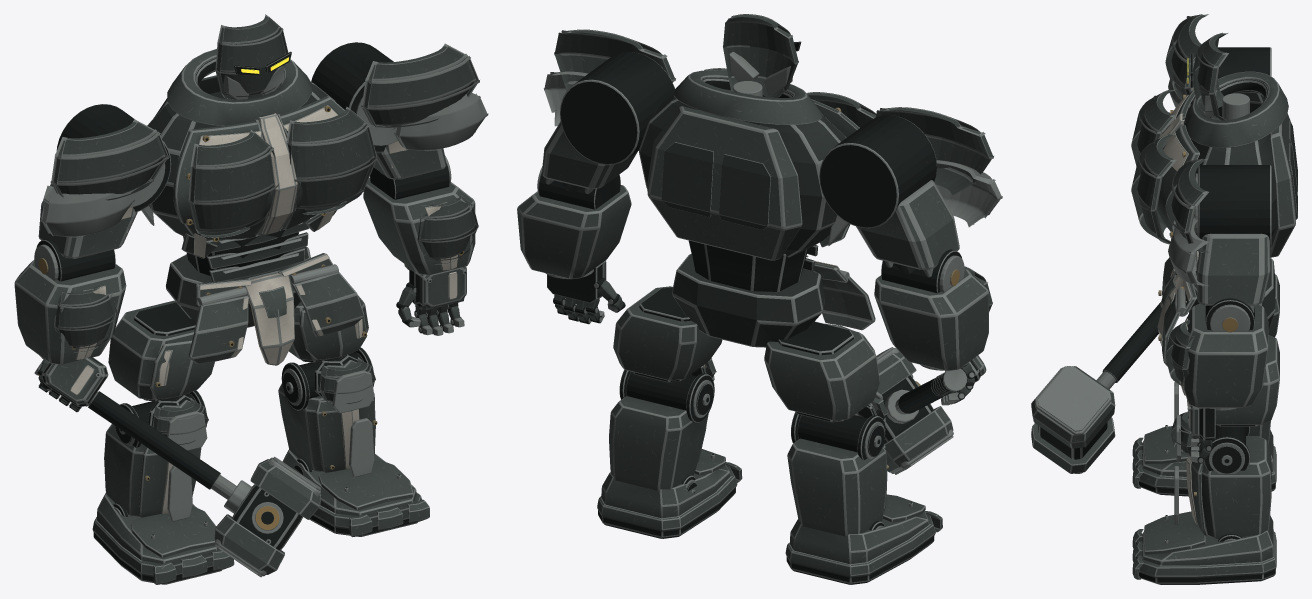
The model's file is tank-t2-harrow.glb.
3 renders of one model, left to right at view 1: azimuth 30°, elevation 25°; view 2: azimuth 150°, elevation 25°; view 3: azimuth 270°, elevation 25°, orthographic. The views are drawn at different scales.
Parts seen in each view (by area): view 1: chest__clay, elbowR__clay, elbowL__clay, weaponR__metal, ankleR__clay, pelvis__metal, pauldronL__clay, pauldronR__clay, ankleL__clay, hipR__clay, kneeL__clay, kneeR__clay (+24 smaller); view 2: chest__clay, chest__metal, pelvis__metal, shoulderR__metal, shoulderL__metal, elbowR__clay, kneeR__clay, kneeL__clay, elbowL__clay, hipR__clay, ankleR__clay, ankleL__clay (+22 smaller); view 3: chest__clay, elbowL__clay, ankleL__clay, kneeL__clay, weaponR__metal, shoulderL__metal, shoulderL__clay, chest__metal, weaponR__clay, ankleR__clay, kneeL__metal, pauldronL__clay (+15 smaller).
Boxes of the visible parts, x1=… form: chest__clay: x1=154, y1=49, x2=377, y2=258; elbowR__clay: x1=14, y1=260, x2=126, y2=364; elbowL__clay: x1=363, y1=178, x2=478, y2=275; weaponR__metal: x1=34, y1=360, x2=320, y2=577; ankleR__clay: x1=92, y1=493, x2=234, y2=584; pelvis__metal: x1=166, y1=219, x2=338, y2=327; pauldronL__clay: x1=361, y1=43, x2=479, y2=129; pauldronR__clay: x1=50, y1=119, x2=169, y2=200; ankleL__clay: x1=282, y1=449, x2=429, y2=537; hipR__clay: x1=108, y1=300, x2=214, y2=399; kneeL__clay: x1=278, y1=357, x2=375, y2=472; kneeR__clay: x1=104, y1=398, x2=208, y2=517; chest__clay: x1=647, y1=68, x2=876, y2=260; chest__metal: x1=639, y1=77, x2=849, y2=257; pelvis__metal: x1=672, y1=240, x2=849, y2=347; shoulderR__metal: x1=819, y1=115, x2=936, y2=277; shoulderL__metal: x1=545, y1=52, x2=674, y2=193; elbowR__clay: x1=874, y1=266, x2=992, y2=370; kneeR__clay: x1=787, y1=396, x2=887, y2=536; kneeL__clay: x1=609, y1=358, x2=716, y2=490; elbowL__clay: x1=517, y1=185, x2=631, y2=278; hipR__clay: x1=764, y1=321, x2=879, y2=420; ankleR__clay: x1=785, y1=494, x2=942, y2=577; ankleL__clay: x1=597, y1=449, x2=742, y2=531; chest__clay: x1=1131, y1=71, x2=1295, y2=270; elbowL__clay: x1=1165, y1=303, x2=1268, y2=407; ankleL__clay: x1=1132, y1=511, x2=1276, y2=579; kneeL__clay: x1=1170, y1=411, x2=1271, y2=539; weaponR__metal: x1=1034, y1=302, x2=1161, y2=473; shoulderL__metal: x1=1194, y1=165, x2=1271, y2=312; shoulderL__clay: x1=1196, y1=233, x2=1270, y2=305; chest__metal: x1=1162, y1=79, x2=1297, y2=237; weaponR__clay: x1=1031, y1=366, x2=1115, y2=473; ankleR__clay: x1=1132, y1=426, x2=1276, y2=489; kneeL__metal: x1=1174, y1=415, x2=1250, y2=524; pauldronL__clay: x1=1165, y1=158, x2=1208, y2=252.
Bounding box in the file's own units: 3.73 × 4.02 × 2.03.
11 materials, 10 textured.
